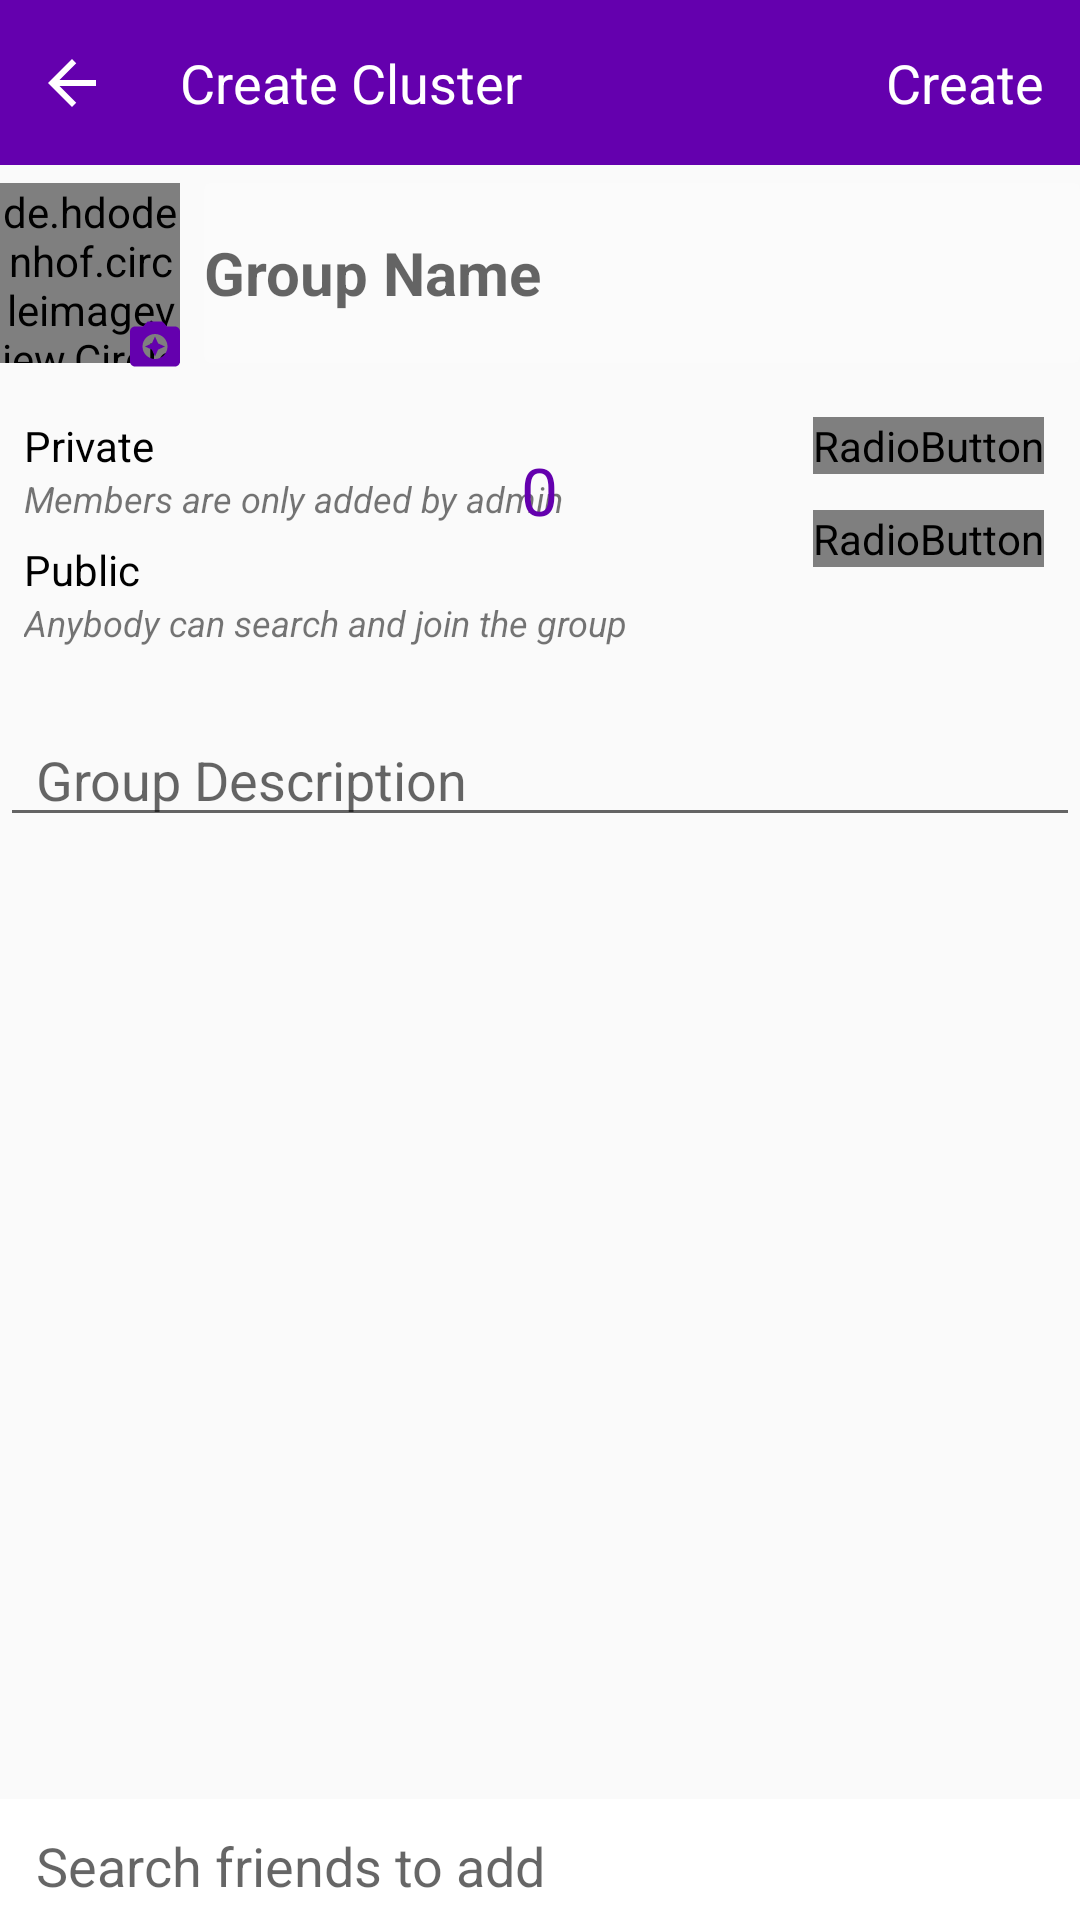

Where to tap for icons on this 1080px x 1920px app screen, as (x,y):
back navigation: (72,83)
camera enhance: (155,344)
